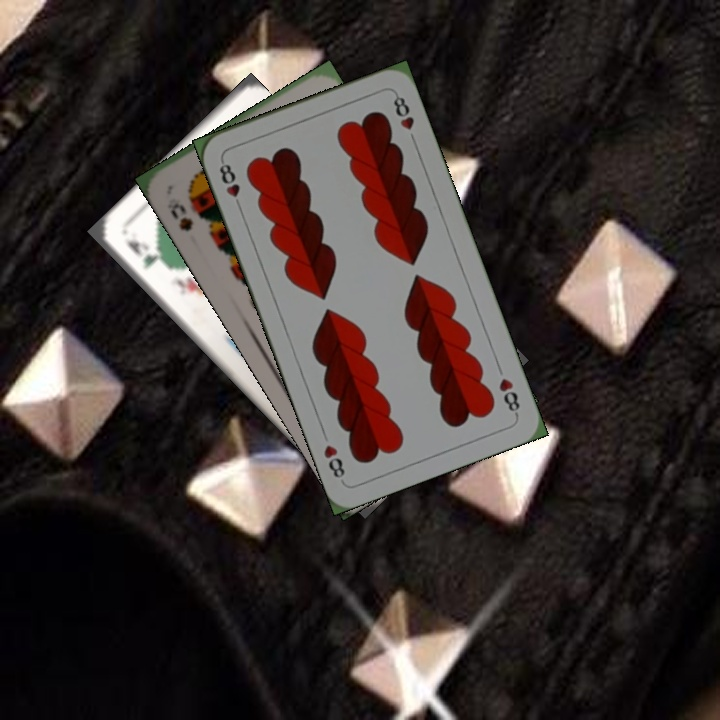GK: (120, 234, 161, 273)
H8: (215, 156, 245, 213), (494, 373, 523, 419)
S8: (162, 193, 196, 234)
